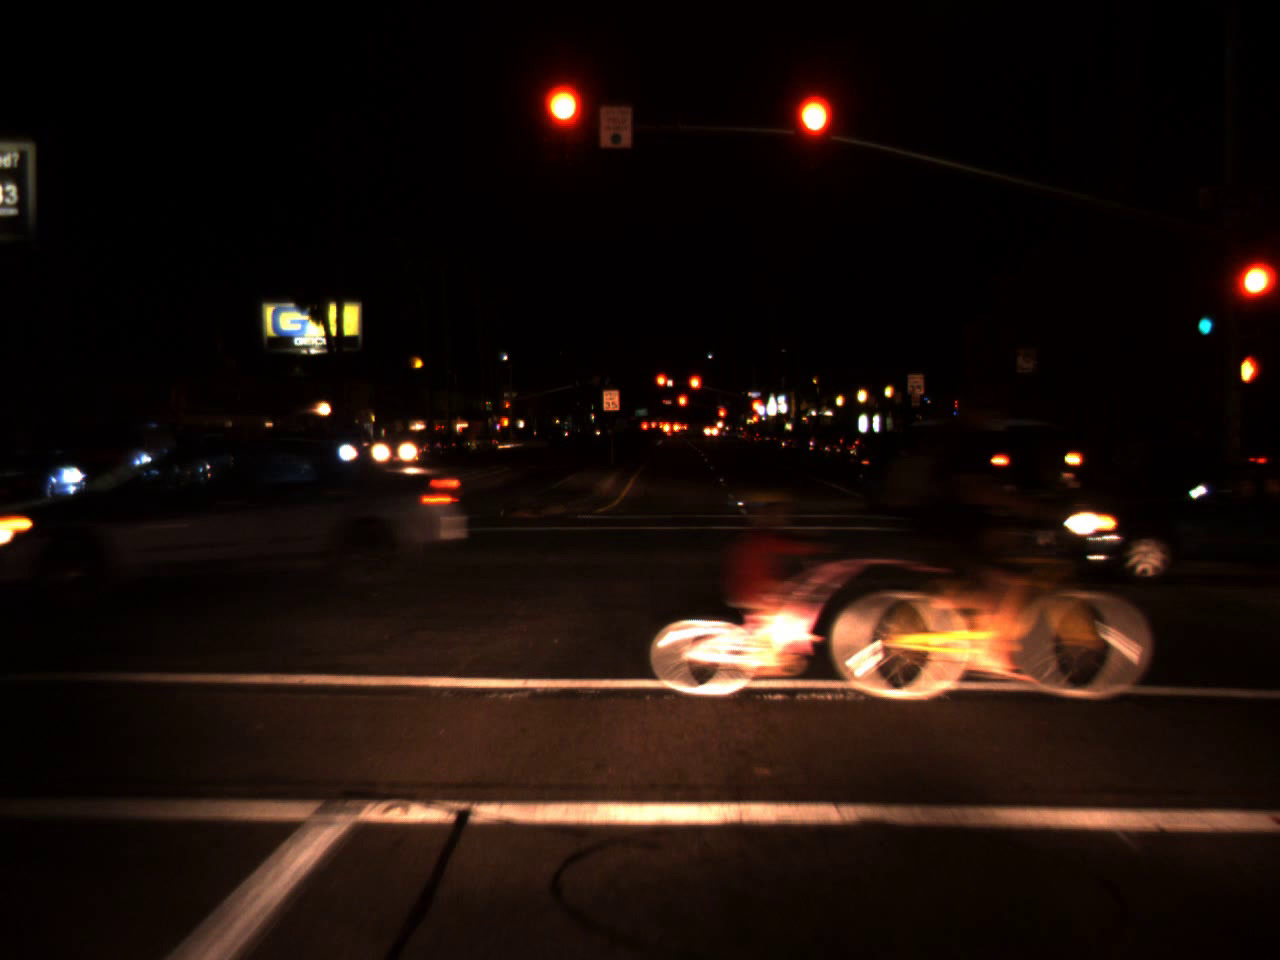stop: (542, 85, 581, 163), (1231, 262, 1274, 329), (796, 95, 832, 173), (654, 372, 670, 401), (687, 374, 702, 403), (714, 405, 729, 429), (750, 398, 762, 422), (677, 393, 687, 417), (501, 399, 511, 415)
